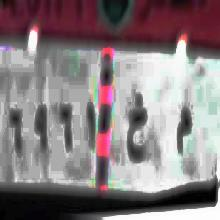1: (83, 101, 99, 149)
6: (8, 101, 24, 160), (58, 103, 74, 154)
9: (30, 97, 52, 155)
khaa: (124, 86, 152, 165)
meem: (170, 93, 196, 163)
